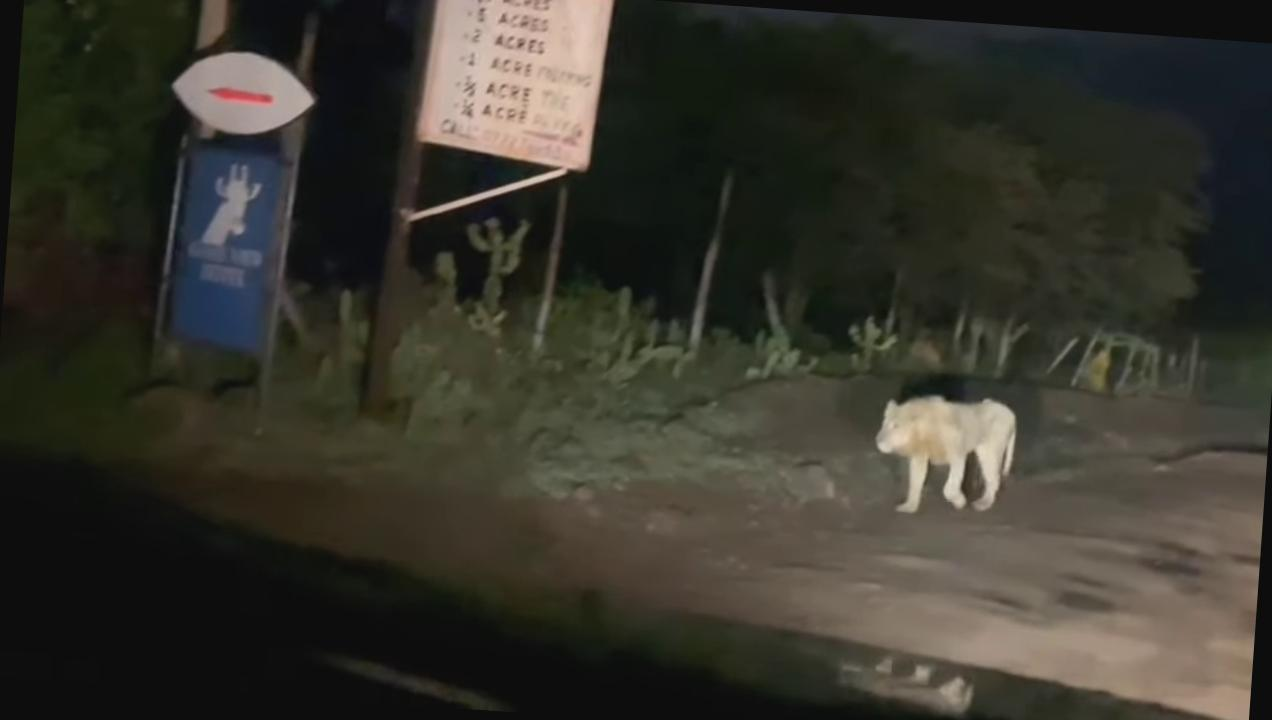lions: (856, 380, 1032, 526)
